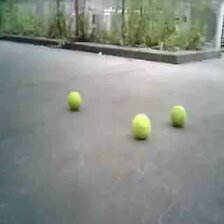tennis: (132, 114, 150, 138), (171, 105, 187, 128), (68, 90, 81, 110)
